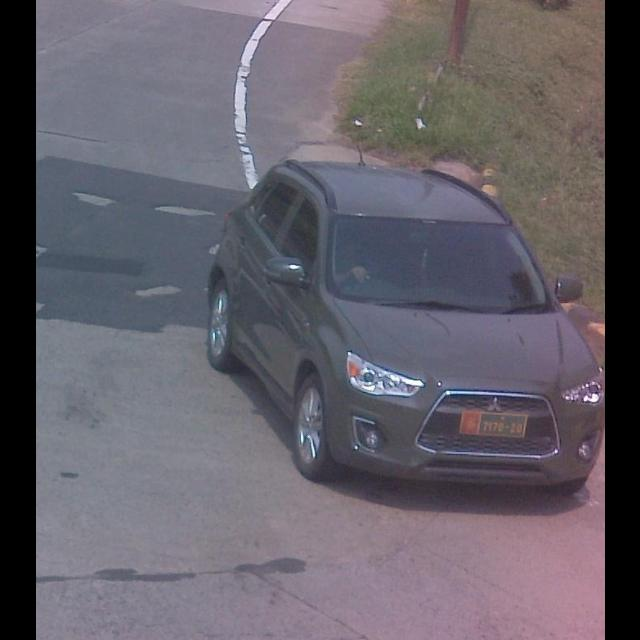plate: (458, 406, 528, 440)
